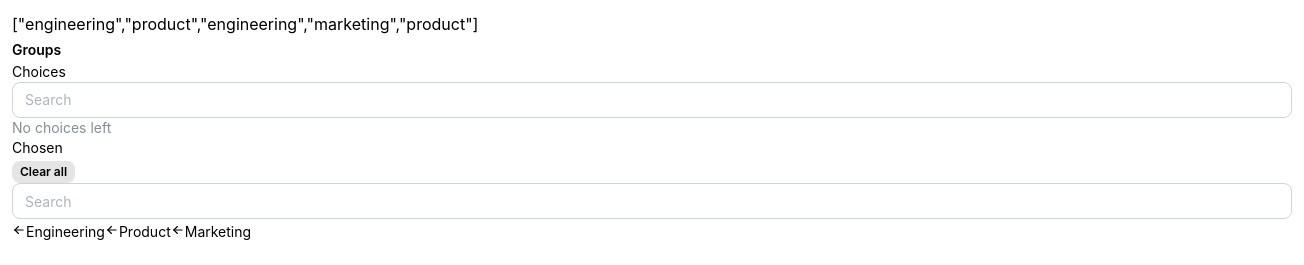
TransferList controlled regression › does not clone chosen rows when value contains duplicates
This screenshot has width=1304, height=265.
Expected: the number of buttons named "Remove Product" is 1, [105, 219, 171, 244]
Expected: the number of buttons named "Remove Marketing" is 1, [171, 219, 251, 244]
Click the button with aria-label "Remove Engineering" at x=58, y=232, box [12, 219, 105, 244]
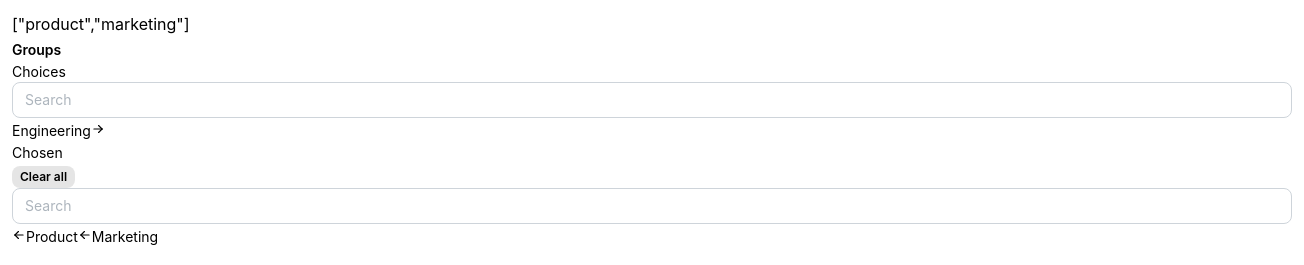
Expected: the number of buttons named "Remove Product" is 1, [12, 224, 78, 249]
Result: the button with aria-label "Add Engineering" is shown at [12, 118, 105, 143]
